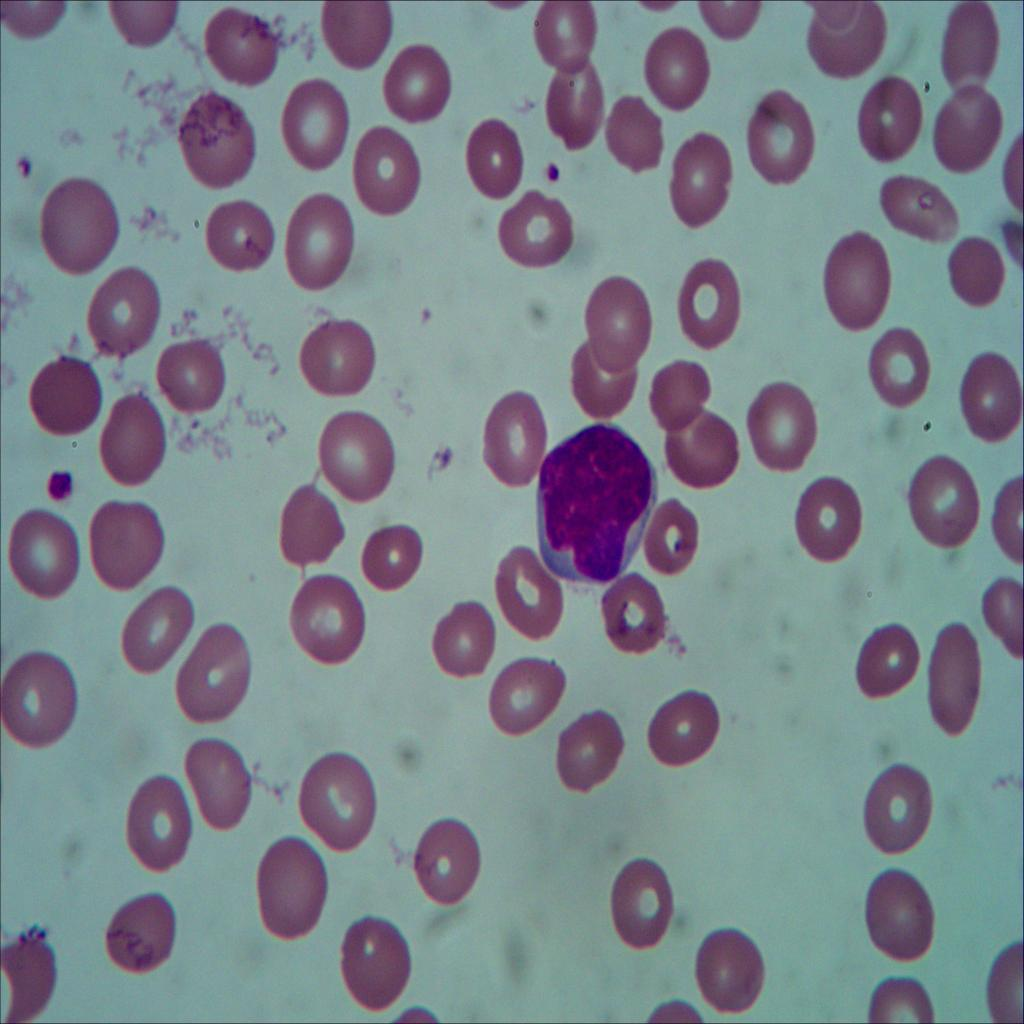Eritrosit: (280, 579, 377, 680), (38, 166, 126, 274), (330, 907, 417, 1015), (869, 158, 964, 256), (252, 840, 338, 946), (482, 187, 584, 276), (175, 618, 259, 726), (0, 647, 82, 756), (173, 87, 260, 189), (816, 232, 898, 340), (7, 504, 90, 610), (111, 577, 197, 679), (178, 732, 260, 838), (858, 863, 940, 969), (280, 192, 364, 295), (417, 585, 503, 685), (742, 373, 820, 482), (598, 570, 684, 668), (923, 616, 984, 752), (304, 742, 382, 848), (688, 920, 770, 1020), (484, 549, 572, 642), (644, 678, 726, 776), (598, 86, 669, 198), (675, 254, 748, 358), (201, 4, 285, 94), (89, 395, 171, 487), (270, 485, 364, 565), (91, 496, 172, 588), (88, 266, 165, 362), (567, 336, 648, 426), (416, 814, 490, 912), (745, 88, 819, 186), (476, 386, 546, 488), (851, 68, 932, 156), (314, 412, 394, 501), (474, 652, 565, 730), (608, 852, 678, 953), (278, 76, 352, 171), (145, 331, 227, 416), (296, 311, 373, 401), (26, 354, 105, 441), (800, 8, 894, 81), (938, 76, 1004, 179), (120, 774, 187, 875), (637, 27, 718, 110), (863, 760, 934, 854), (102, 893, 184, 974), (374, 42, 453, 126), (558, 707, 628, 801), (910, 465, 980, 558), (354, 127, 427, 216), (942, 219, 1013, 309), (670, 406, 742, 491), (666, 135, 738, 220), (315, 0, 397, 73), (461, 110, 528, 198), (794, 477, 858, 566), (204, 201, 282, 273), (588, 281, 652, 366), (642, 498, 709, 579), (962, 352, 1024, 438), (547, 54, 599, 155), (851, 631, 920, 706), (1, 934, 58, 1024), (356, 516, 422, 593), (942, 0, 996, 94), (873, 331, 932, 414), (867, 962, 945, 1024), (648, 354, 708, 433), (532, 0, 594, 70)
Limfoblast: (532, 418, 661, 590)
Platelet: (34, 460, 88, 514), (16, 146, 44, 184), (546, 157, 570, 187), (410, 297, 435, 322)
